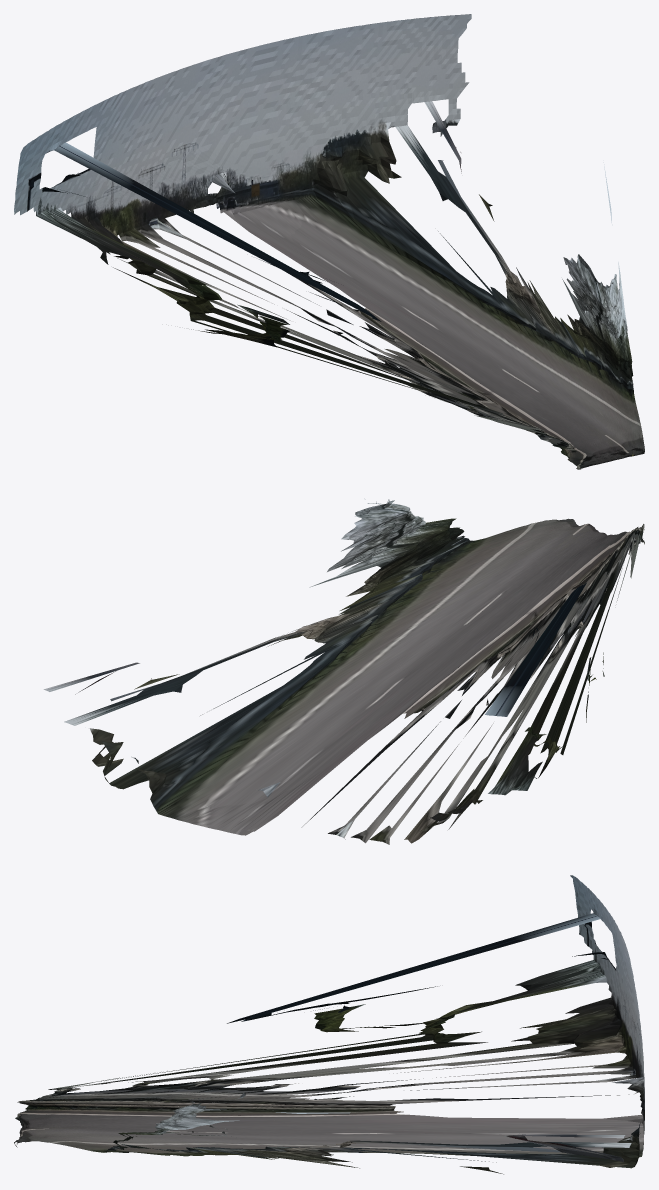
3 renders of one model, top to bottom at view 1: azimuth 30°, elevation 25°; view 2: azimuth 150°, elevation 25°; view 3: azimuth 270°, elevation 25°, orthographic. The views are drawn at different scales.
Parts seen in each view (by area): view 1: defaultobject; view 2: defaultobject; view 3: defaultobject.
Part boxes in pixels (left/top/right/bottom): defaultobject: left=14, top=14, right=644, bottom=469; defaultobject: left=43, top=498, right=644, bottom=844; defaultobject: left=14, top=875, right=644, bottom=1174.
Size of the model in its own units: 34.51 by 11.94 by 44.53.
1 material, 1 textured.
